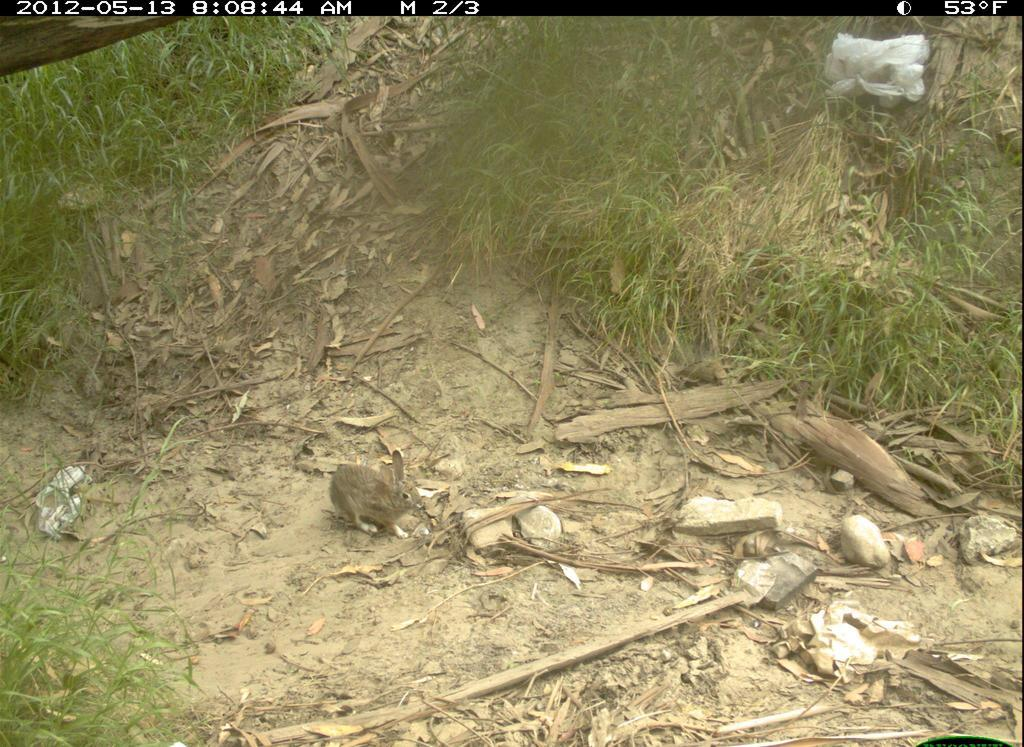rabbit: (318, 442, 432, 548)
